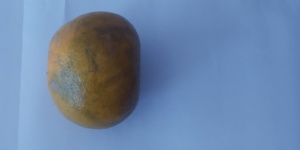BAD: (46, 11, 141, 130)
